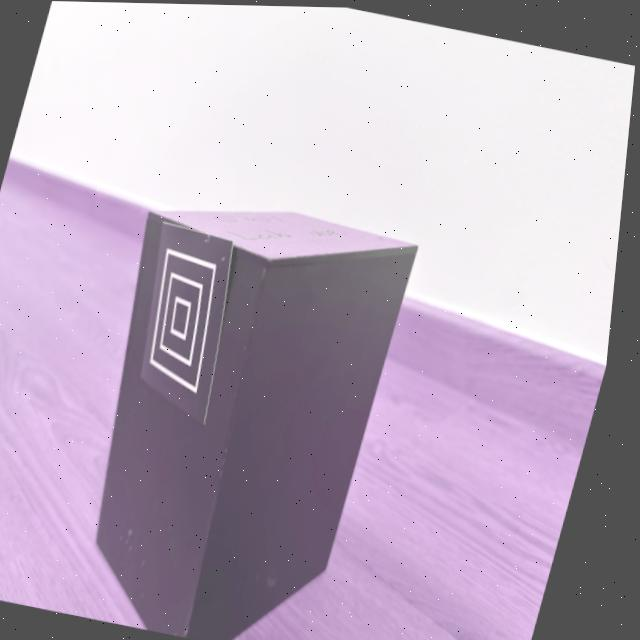BULLSEYE: (148, 221, 237, 424)
